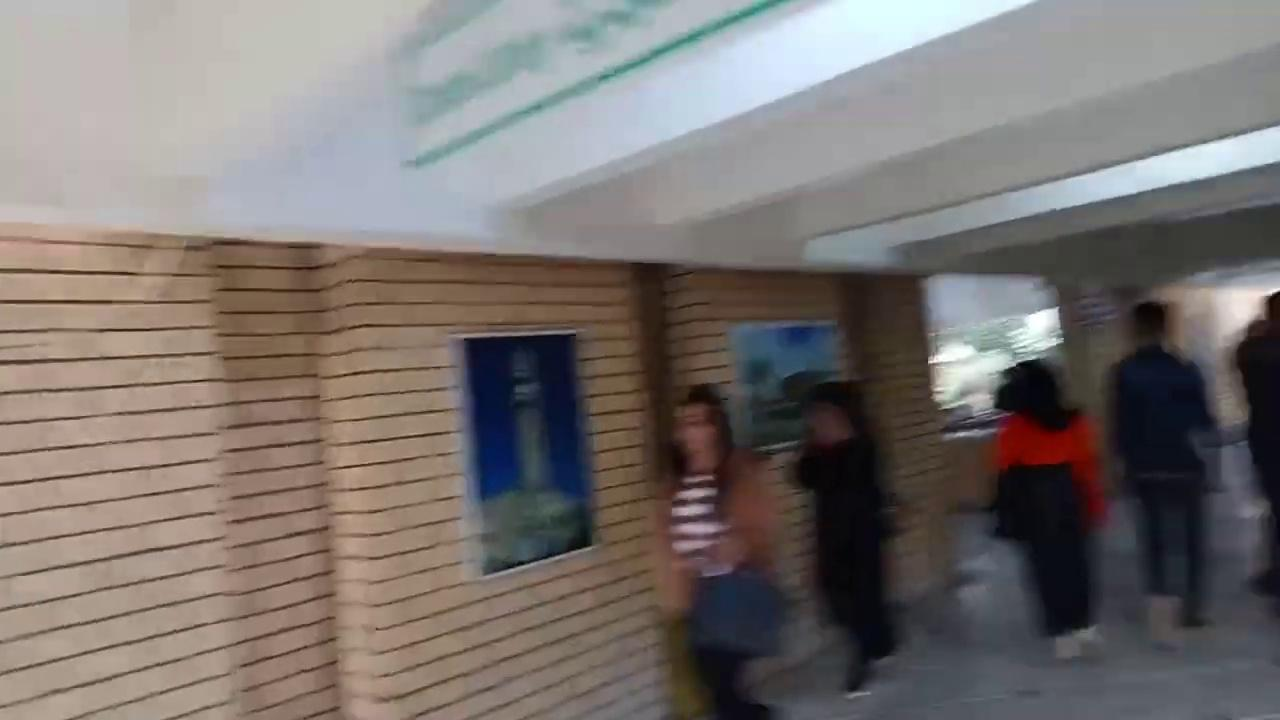person: (653, 383, 787, 718), (1105, 299, 1220, 628), (988, 357, 1110, 660), (789, 379, 903, 698), (1234, 289, 1279, 599)
